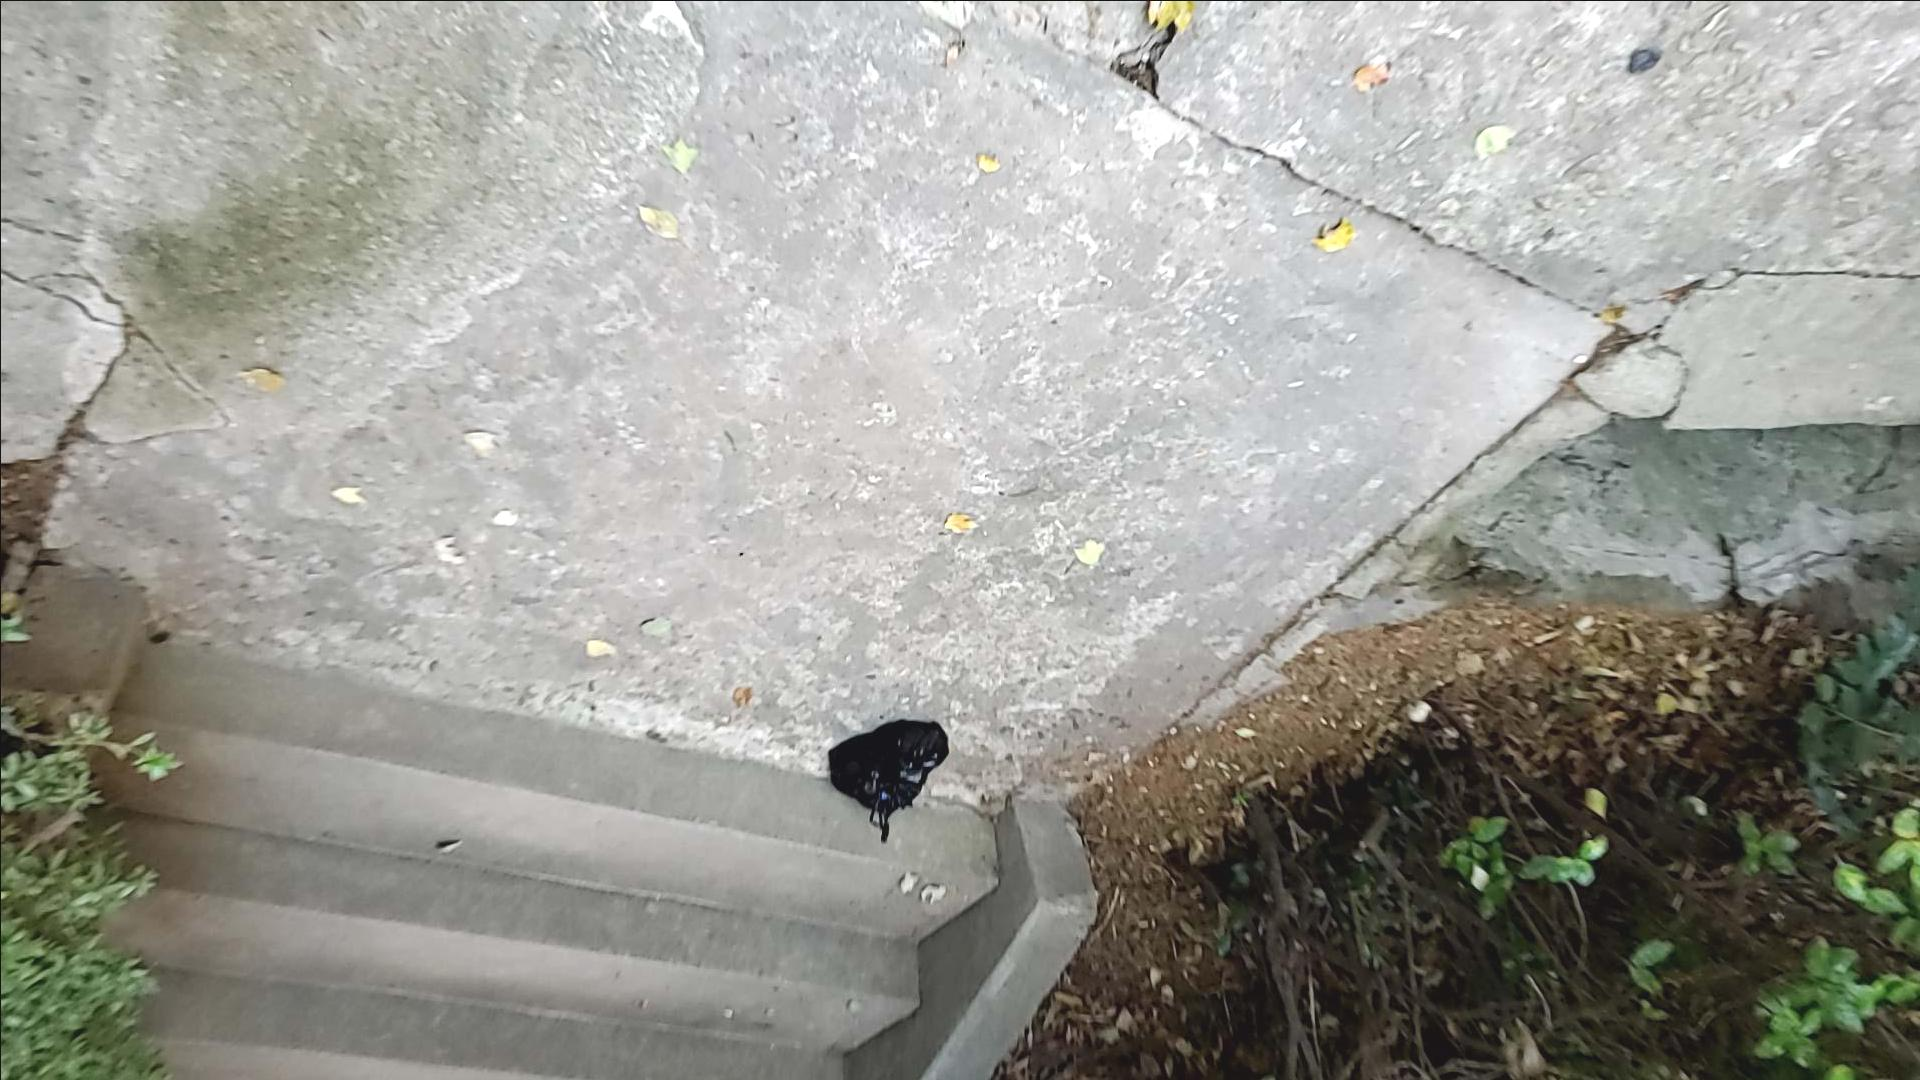black_bag: (823, 716, 957, 849)
